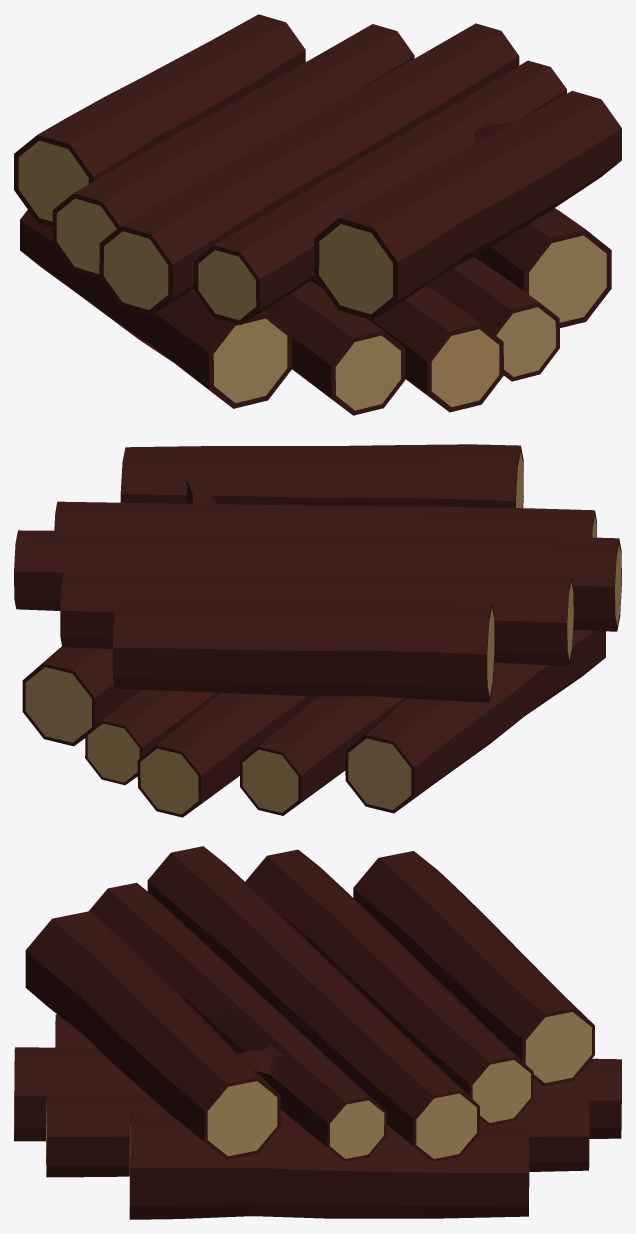
Rendered from SM_FurnaceFuel_Wooden_Lv2.fbx.
The picture shows the model from 3 angles, top to bottom: view 1: azimuth 30°, elevation 25°; view 2: azimuth 150°, elevation 25°; view 3: azimuth 270°, elevation 25°; orthographic projection. The views are drawn at different scales.
Parts seen in each view (by area): view 1: Furnace_WoodenFuel_Lv2; view 2: Furnace_WoodenFuel_Lv2; view 3: Furnace_WoodenFuel_Lv2.
Boxes of the visible parts, x1,y1,x2,y2 form: Furnace_WoodenFuel_Lv2: (14, 14, 621, 415); Furnace_WoodenFuel_Lv2: (14, 444, 621, 817); Furnace_WoodenFuel_Lv2: (14, 846, 621, 1219).
Bounding box in the file's own units: 111 × 37.76 × 115.
